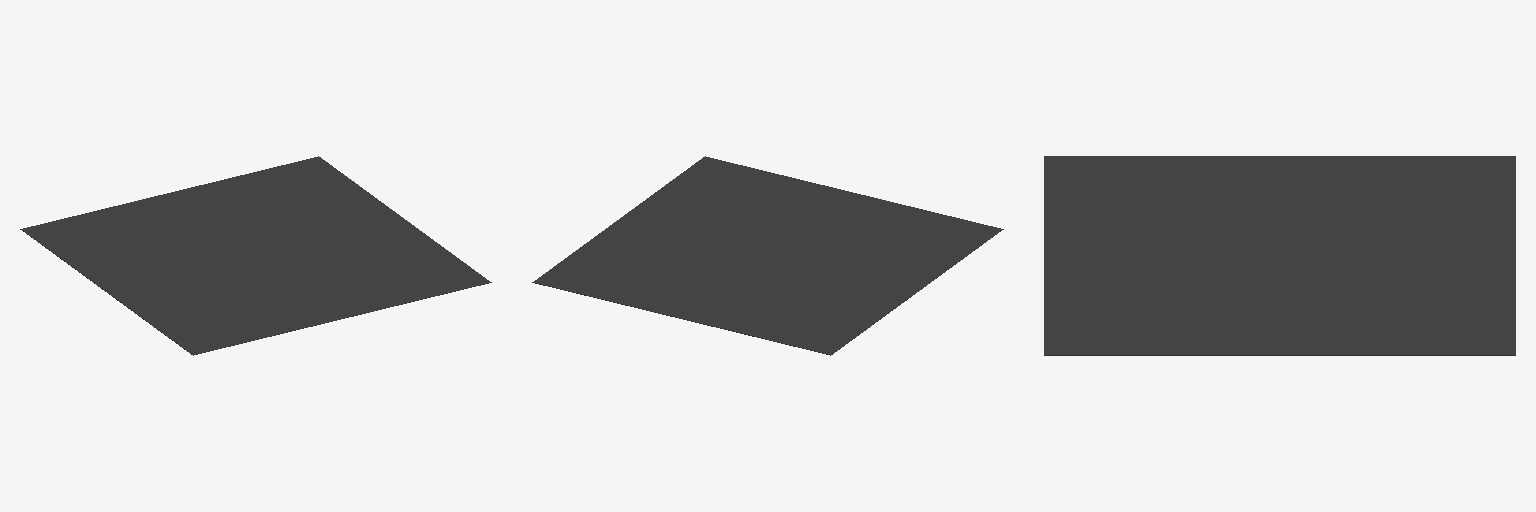
URDF robot description (ground):
<?xml version="1.0"?>
<robot name="ground">
  <link name="baseLink">
    <inertial>
      <origin rpy="0 0 0" xyz="0 0 0"/>
      <mass value="0"/>
      <inertia ixx="0" ixy="0" ixz="0" iyy="0" iyz="0" izz="0"/>
    </inertial>
    <visual>
      <origin rpy="0 0 0" xyz="0 0 0"/>
      <geometry>
        <box size="100 100 0.1"/>
      </geometry>
      <material name="ground_mat">
        <color rgba="0.3 0.3 0.3 1"/>
      </material>
    </visual>
    <collision>
      <origin rpy="0 0 0" xyz="0 0 0"/>
      <geometry>
        <box size="100 100 0.1"/>
      </geometry>
    </collision>
  </link>
</robot>

--- Render facts (derived) ---
Views: 3 orthographic renders of the robot side by side, from view 1: azimuth 30°, elevation 25°; view 2: azimuth 150°, elevation 25°; view 3: azimuth 270°, elevation 25°.
Robot: ground — 1 links, 0 joints (none); root link baseLink; default pose: all joints at 0.
Visible links, largest first — view 1: baseLink; view 2: baseLink; view 3: baseLink.
Link boxes in pixels (left/top/right/bottom): baseLink: left=20, top=156, right=491, bottom=355; baseLink: left=532, top=156, right=1003, bottom=355; baseLink: left=1044, top=156, right=1515, bottom=355.
Size in the robot's own frame: 100 by 100 by 0.1 metres.
Geometry: primitives only (box / cylinder / sphere), no mesh files.
